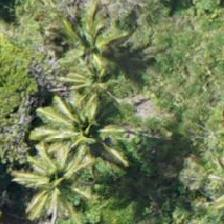coconut_tree: (13, 133, 103, 223), (40, 74, 130, 164), (53, 0, 143, 89)
